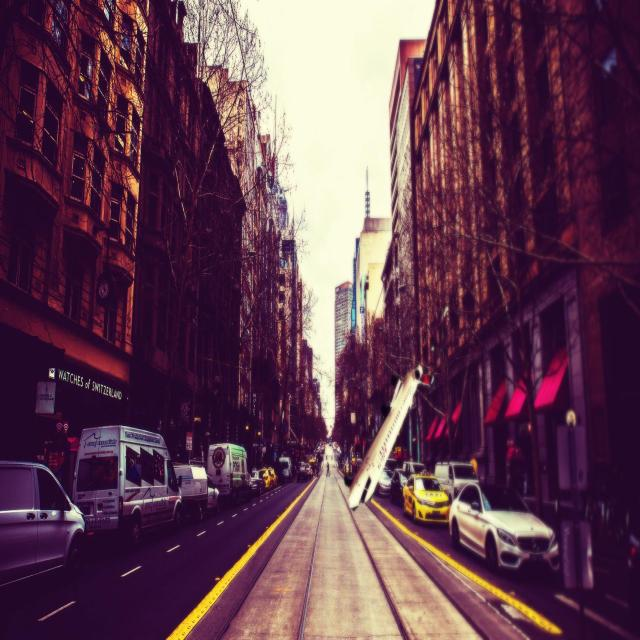airplane: (348, 363, 434, 510)
